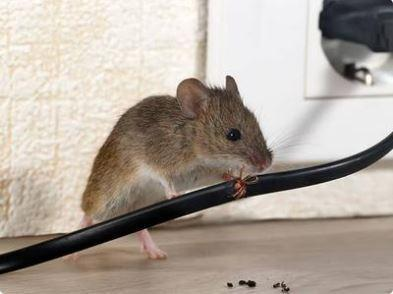rat: (80, 74, 274, 260)
